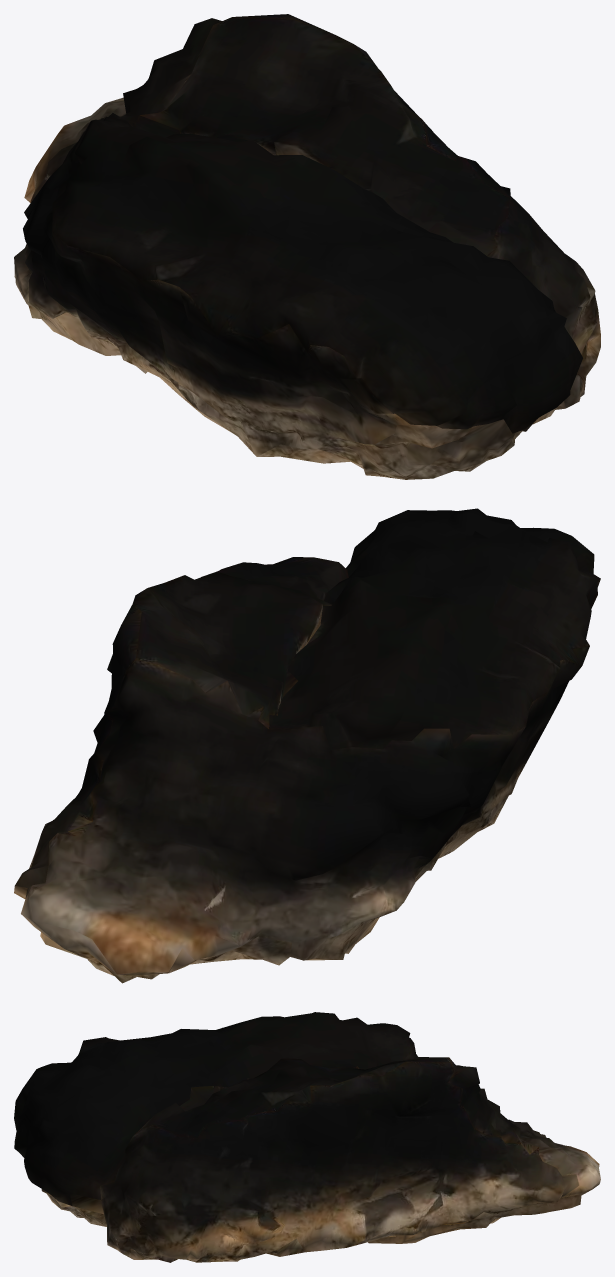
The model's file is RockB-transformed.glb.
3 renders of one model, top to bottom at view 1: azimuth 30°, elevation 25°; view 2: azimuth 150°, elevation 25°; view 3: azimuth 270°, elevation 25°, orthographic. The views are drawn at different scales.
Parts seen in each view (by area): view 1: namaqualand_boulders_01_b_LOD3; view 2: namaqualand_boulders_01_b_LOD3; view 3: namaqualand_boulders_01_b_LOD3.
Boxes of the visible parts, box(x1,y1,x2,y2) form: namaqualand_boulders_01_b_LOD3: box(14, 14, 600, 479); namaqualand_boulders_01_b_LOD3: box(14, 508, 600, 983); namaqualand_boulders_01_b_LOD3: box(14, 1012, 600, 1262).
Bounding box in the file's own units: 0.3394 × 0.2097 × 0.5826.
Materials: 1 (1 with a texture image).
